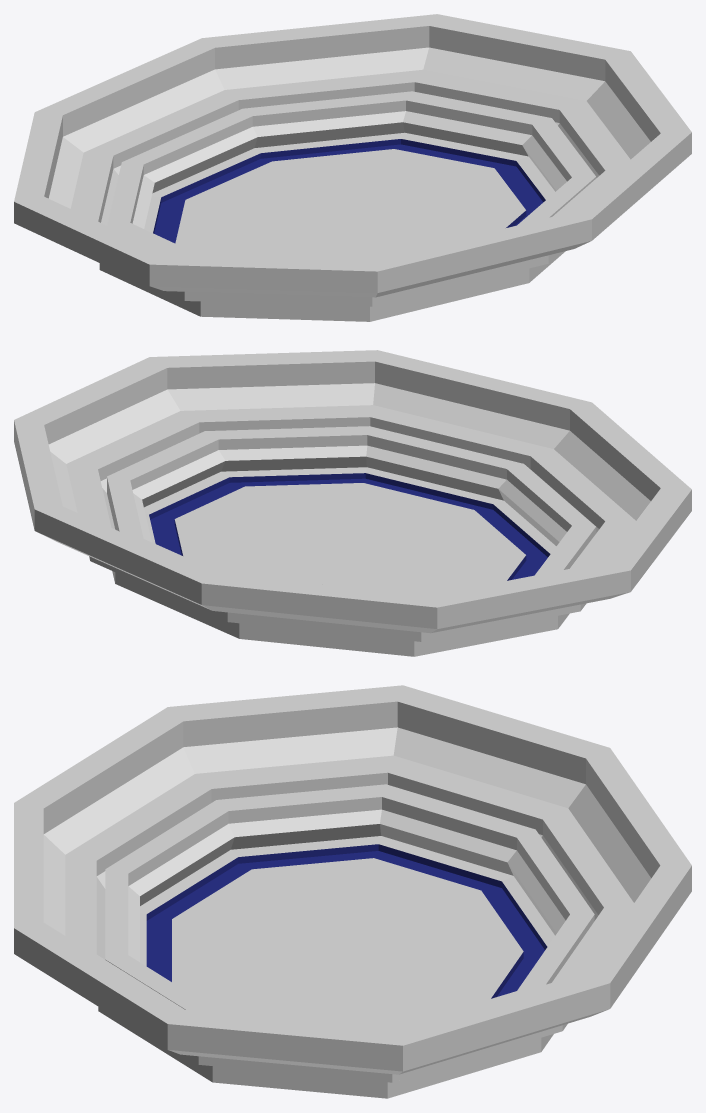
Rendered from Collesium.fbx.
3 views of the same model, one above another, from view 1: azimuth 30°, elevation 25°; view 2: azimuth 150°, elevation 25°; view 3: azimuth 270°, elevation 25° (orthographic). The views are drawn at different scales.
Parts seen in each view (by area): view 1: Cylinder; view 2: Cylinder; view 3: Cylinder.
Boxes of the visible parts, x1,y1,x2,y2 form: Cylinder: [14, 14, 691, 321]; Cylinder: [14, 350, 691, 656]; Cylinder: [14, 685, 691, 1098].
Size of the model in its own units: 5497 by 706 by 4370.
